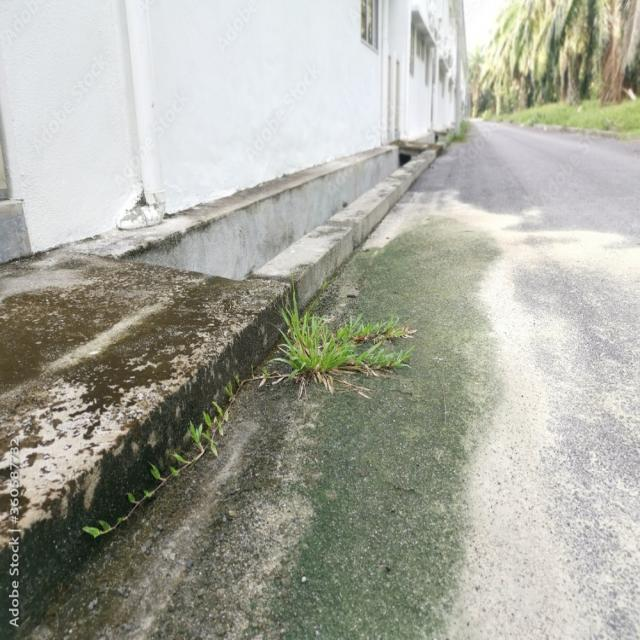Pothole: (26, 197, 509, 640)
